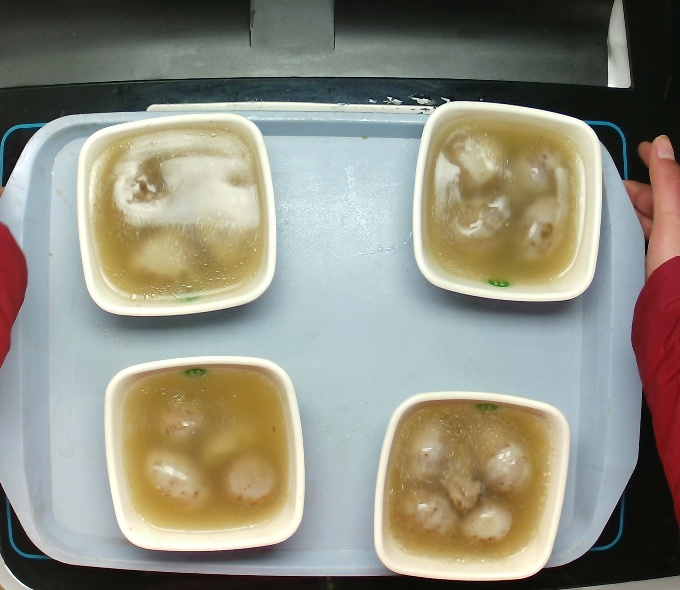wcq-YuTouTang: (85, 125, 268, 302), (120, 363, 293, 532), (422, 112, 586, 287), (384, 401, 554, 564)
